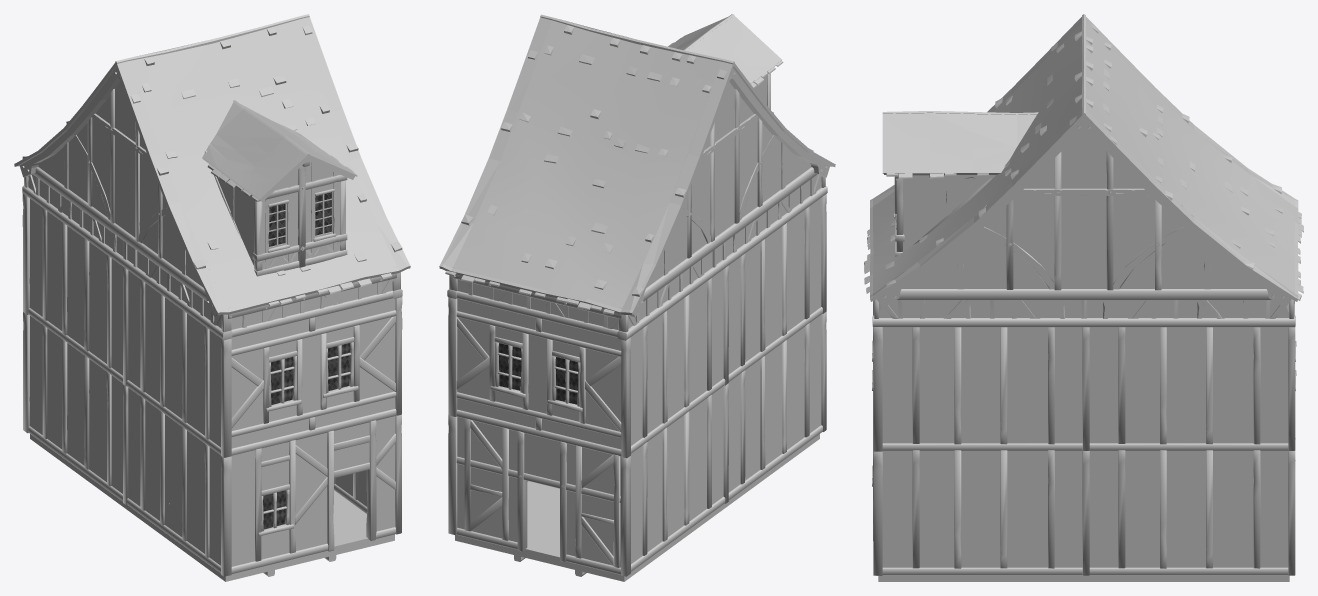
The model's file is House_01.fbx.
The picture shows the model from 3 angles, left to right: view 1: azimuth 30°, elevation 25°; view 2: azimuth 150°, elevation 25°; view 3: azimuth 270°, elevation 25°; orthographic projection. The views are drawn at different scales.
Visible parts, largest first — view 1: StaticMeshComponent015, StaticMeshComponent010, StaticMeshComponent02, StaticMeshComponent01, StaticMeshComponent013, StaticMeshComponent014, StaticMeshComponent012, StaticMeshComponent011, StaticMeshComponent09, StaticMeshComponent016, StaticMeshComponent0, StaticMeshComponent07 (+2 smaller); view 2: StaticMeshComponent08, StaticMeshComponent010, StaticMeshComponent07, StaticMeshComponent06, StaticMeshComponent013, StaticMeshComponent012, StaticMeshComponent014, StaticMeshComponent011, StaticMeshComponent017, StaticMeshComponent015, StaticMeshComponent09, StaticMeshComponent05 (+2 smaller); view 3: StaticMeshComponent09, StaticMeshComponent0, StaticMeshComponent05, StaticMeshComponent03, StaticMeshComponent04, StaticMeshComponent015, StaticMeshComponent08, StaticMeshComponent010, StaticMeshComponent017, StaticMeshComponent016, StaticMeshComponent01, StaticMeshComponent02.
Boxes of the visible parts, <box> form: StaticMeshComponent015: <box>128,17,398,337</box>; StaticMeshComponent010: <box>14,58,232,340</box>; StaticMeshComponent02: <box>231,297,402,455</box>; StaticMeshComponent01: <box>231,414,401,573</box>; StaticMeshComponent013: <box>126,388,231,576</box>; StaticMeshComponent014: <box>126,270,231,457</box>; StaticMeshComponent012: <box>28,316,128,504</box>; StaticMeshComponent011: <box>28,198,128,385</box>; StaticMeshComponent09: <box>297,14,410,298</box>; StaticMeshComponent016: <box>127,490,394,581</box>; StaticMeshComponent0: <box>334,470,367,513</box>; StaticMeshComponent07: <box>22,193,29,314</box>; StaticMeshComponent08: <box>445,17,721,337</box>; StaticMeshComponent010: <box>617,58,835,340</box>; StaticMeshComponent07: <box>456,298,630,458</box>; StaticMeshComponent06: <box>456,417,630,576</box>; StaticMeshComponent013: <box>728,311,826,499</box>; StaticMeshComponent012: <box>631,383,728,571</box>; StaticMeshComponent014: <box>728,194,826,381</box>; StaticMeshComponent011: <box>631,265,728,453</box>; StaticMeshComponent017: <box>455,481,722,581</box>; StaticMeshComponent015: <box>561,14,783,109</box>; StaticMeshComponent09: <box>439,14,552,298</box>; StaticMeshComponent05: <box>448,415,527,535</box>; StaticMeshComponent09: <box>870,107,1298,327</box>; StaticMeshComponent0: <box>882,450,1089,575</box>; StaticMeshComponent05: <box>1089,450,1295,575</box>; StaticMeshComponent03: <box>882,327,1089,450</box>; StaticMeshComponent04: <box>1089,327,1295,450</box>; StaticMeshComponent015: <box>864,20,1083,315</box>; StaticMeshComponent08: <box>1084,20,1303,315</box>; StaticMeshComponent010: <box>870,14,1298,207</box>; StaticMeshComponent017: <box>1084,575,1289,581</box>; StaticMeshComponent016: <box>878,575,1083,581</box>; StaticMeshComponent01: <box>872,413,882,575</box>; StaticMeshComponent02: <box>872,327,882,451</box>.
Size of the model in its own units: 683 by 1550 by 1283.
